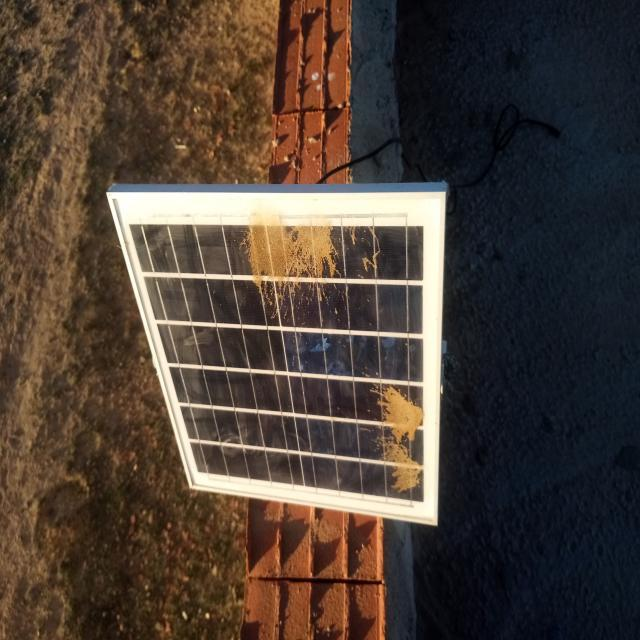faulty: (111, 195, 443, 525)
